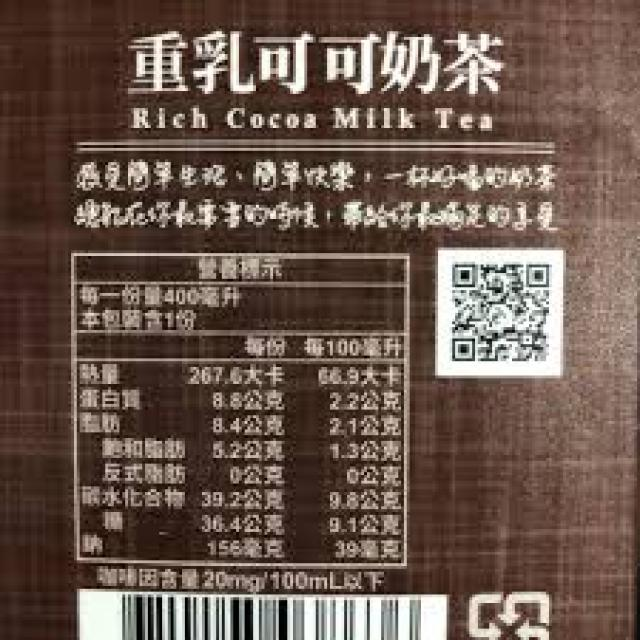Known_ChocoMilkTea: (3, 3, 634, 640)
